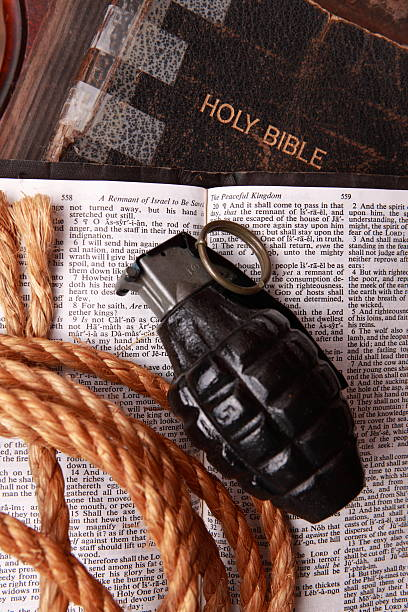e1: (110, 222, 365, 524)
